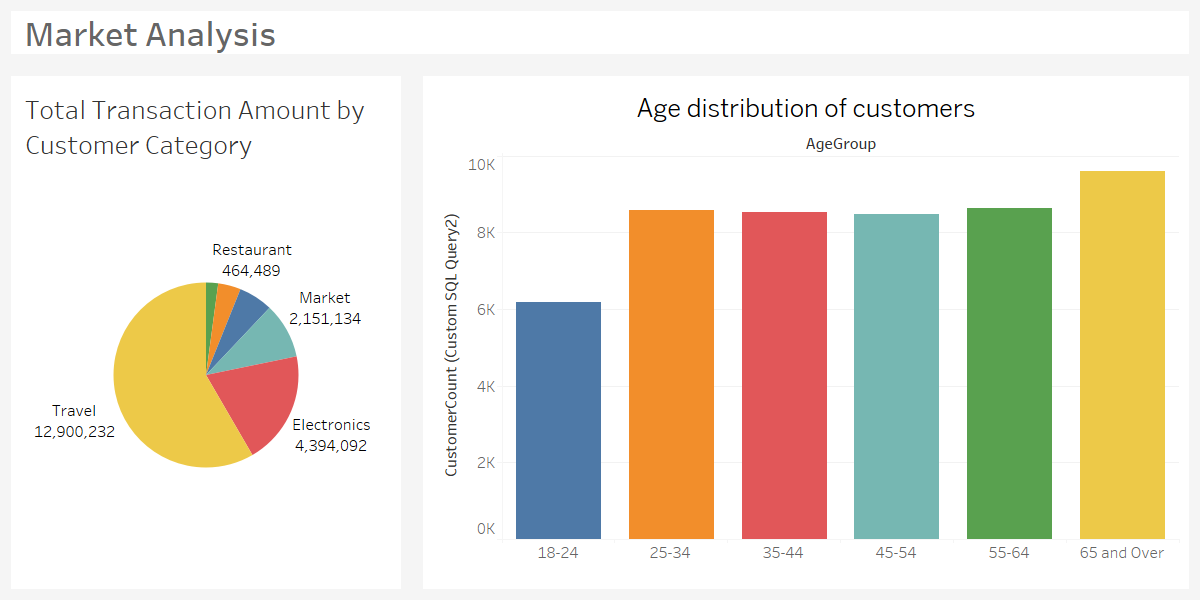

The page's visual inventory and layout, read from the dashboard file:
{"tool":"tableau","page":{"name":"Dashboard 1","canvas":[1200,600],"ordinal":0},"visuals":[{"type":"text","box":[0,0,1200,65]},{"type":"legend","title":"Sheet 2","param":"[federated.04p93gr0i7skgu176q56y1se4snb].[sum:TotalSpent:qk]","box":[1032,8,160,51]},{"type":"legend","title":"Sheet 3","param":"[federated.04p93gr0i7skgu176q56y1se4snb].[none:AgeGroup:nk]","box":[1032,59,160,156]},{"type":"worksheet","title":"Sheet 2","mark":"Pie","box":[0,65,412,535]},{"type":"worksheet","title":"Sheet 3","mark":"Automatic","rows":["CustomerCount (Custom SQL Query2)"],"cols":["AgeGroup"],"box":[412,65,788,535]}]}

Visuals, with their boxes in screenshot pixels (x1, y1, x2, y2), scaled from the page's 1200x600 canvas onto the 1200x600 screenshot:
text: 0,0,1199,65
"Sheet 2" legend: 1032,8,1192,59
"Sheet 3" legend: 1032,59,1192,215
"Sheet 2" worksheet (Pie marks): 0,65,412,599
"Sheet 3" worksheet: 412,65,1199,599
